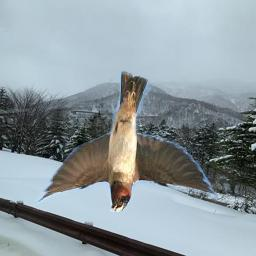Swallow: (33, 72, 218, 213)
